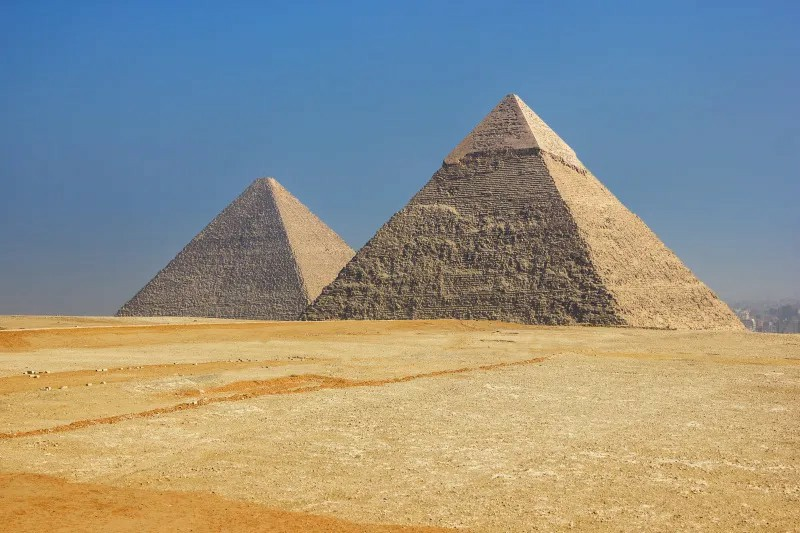Pyramid: (298, 91, 748, 334), (115, 177, 356, 323)
